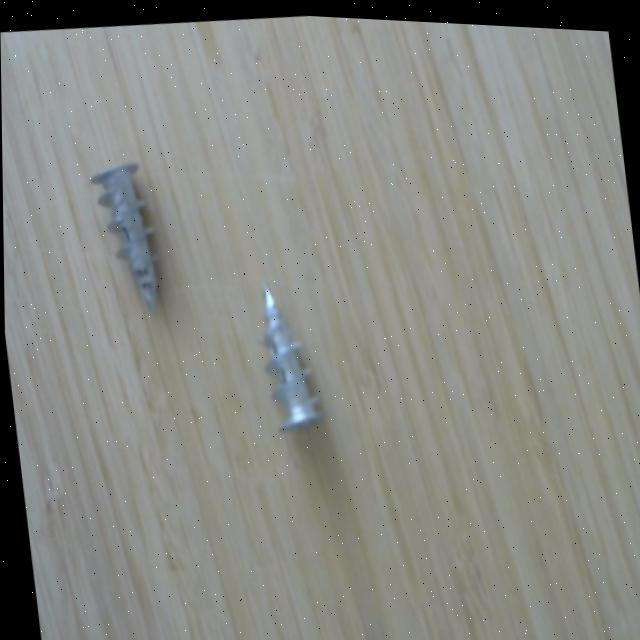Short screw: (237, 261, 329, 442), (84, 146, 177, 322)
